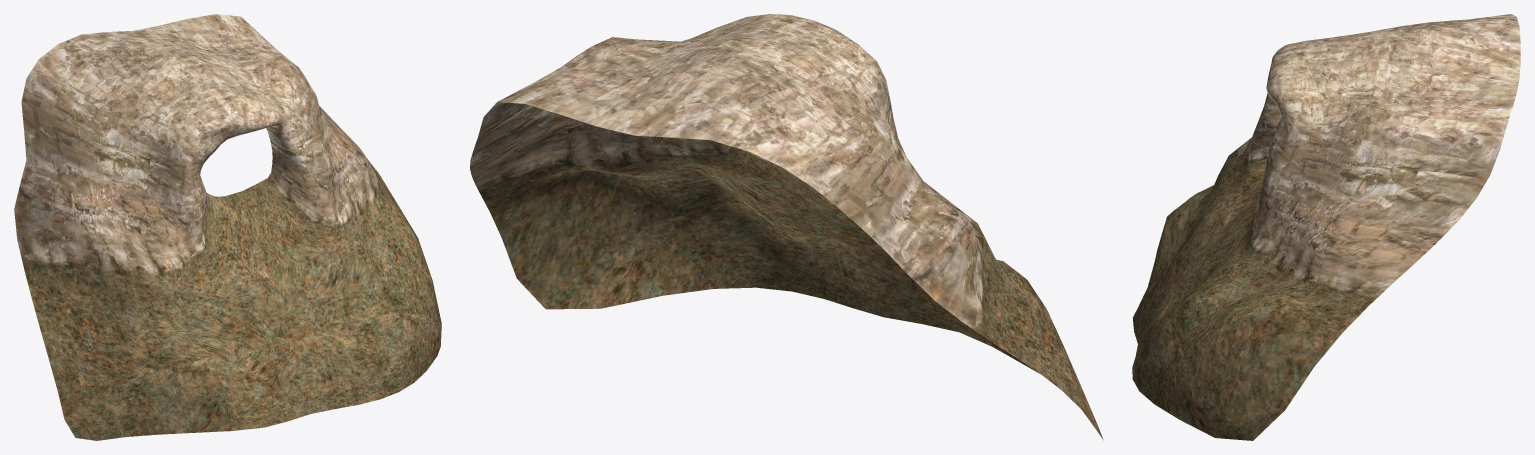
File: thm_all_cave_s01_r0_mesh_l0.fbx
3 views of the same model, side by side, from view 1: azimuth 30°, elevation 25°; view 2: azimuth 150°, elevation 25°; view 3: azimuth 270°, elevation 25° (orthographic). The views are drawn at different scales.
Parts seen in each view (by area): view 1: mesh_node; view 2: mesh_node; view 3: mesh_node.
Boxes of the visible parts, left/top/right/bottom form: mesh_node: left=14, top=14, right=441, bottom=440; mesh_node: left=470, top=14, right=1103, bottom=440; mesh_node: left=1132, top=14, right=1520, bottom=440.
Bounding box in the file's own units: 48.97 × 34.28 × 39.36.
